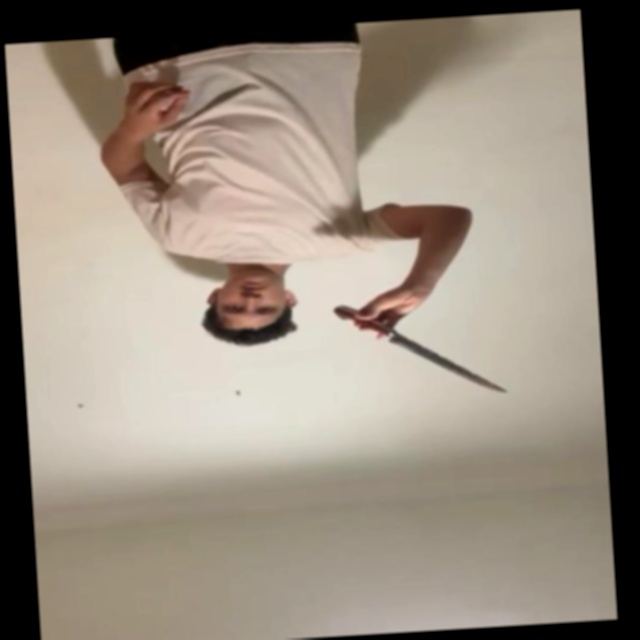Sharp-Object: (394, 328, 506, 400)
